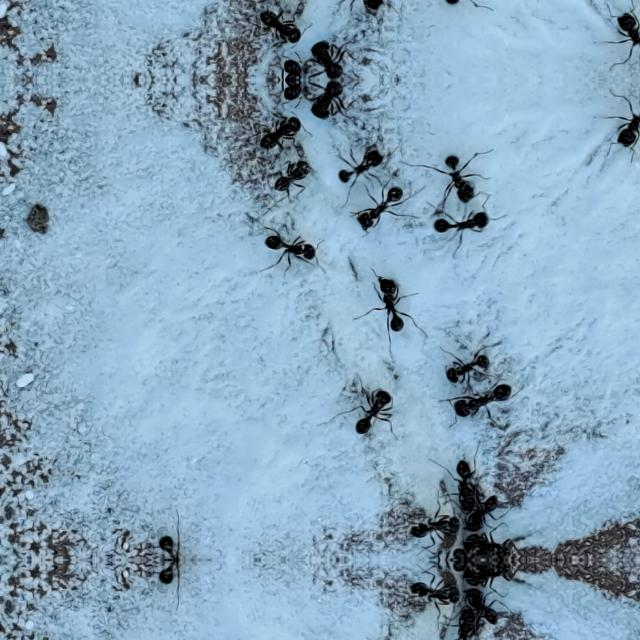Messor: (441, 372, 524, 426), (356, 272, 416, 346), (350, 171, 420, 233), (330, 128, 390, 188), (250, 227, 322, 273), (442, 336, 500, 388), (440, 150, 484, 207), (434, 211, 504, 243), (302, 82, 362, 118), (302, 42, 362, 78), (256, 118, 306, 160), (256, 0, 306, 42), (351, 385, 391, 435), (330, 0, 389, 32), (439, 458, 475, 506), (160, 523, 207, 559), (160, 561, 207, 597), (271, 163, 313, 203), (461, 532, 519, 560), (461, 560, 519, 588), (260, 80, 304, 114), (260, 46, 304, 80), (466, 494, 499, 536), (466, 584, 499, 626), (409, 510, 455, 538), (409, 582, 455, 610), (439, 614, 475, 640), (614, 110, 640, 144), (614, 16, 640, 50)
